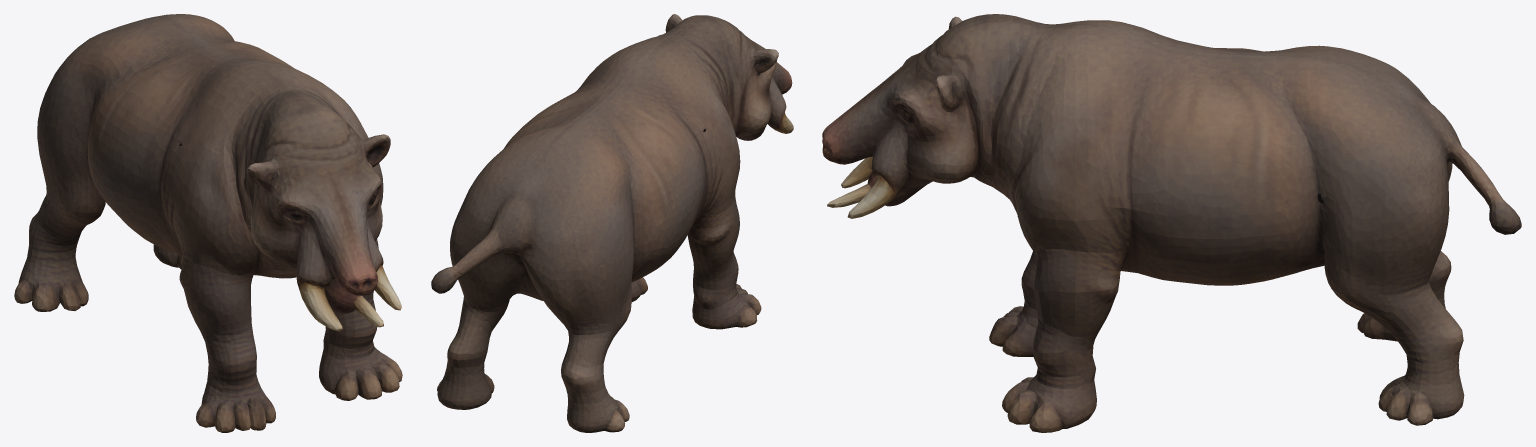
The picture shows the model from 3 angles, left to right: view 1: azimuth 30°, elevation 25°; view 2: azimuth 150°, elevation 25°; view 3: azimuth 270°, elevation 25°; orthographic projection. The views are drawn at different scales.
Visible parts, largest first — view 1: world; view 2: world; view 3: world.
Part boxes in pixels (bbox=[...]): world: bbox=[14, 14, 402, 432]; world: bbox=[431, 14, 793, 432]; world: bbox=[822, 14, 1521, 432].
Size of the model in its own units: 1.27 by 1.78 by 3.2.
Materials: 1 (1 with a texture image).
